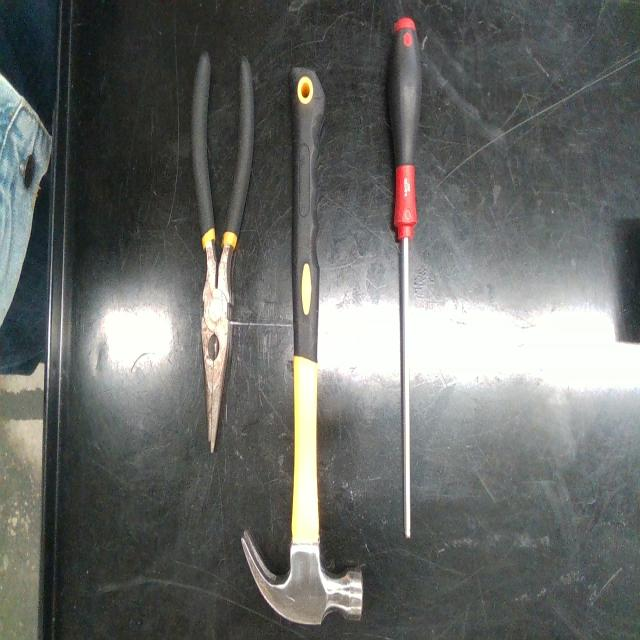Screwdriver: (389, 18, 421, 538)
